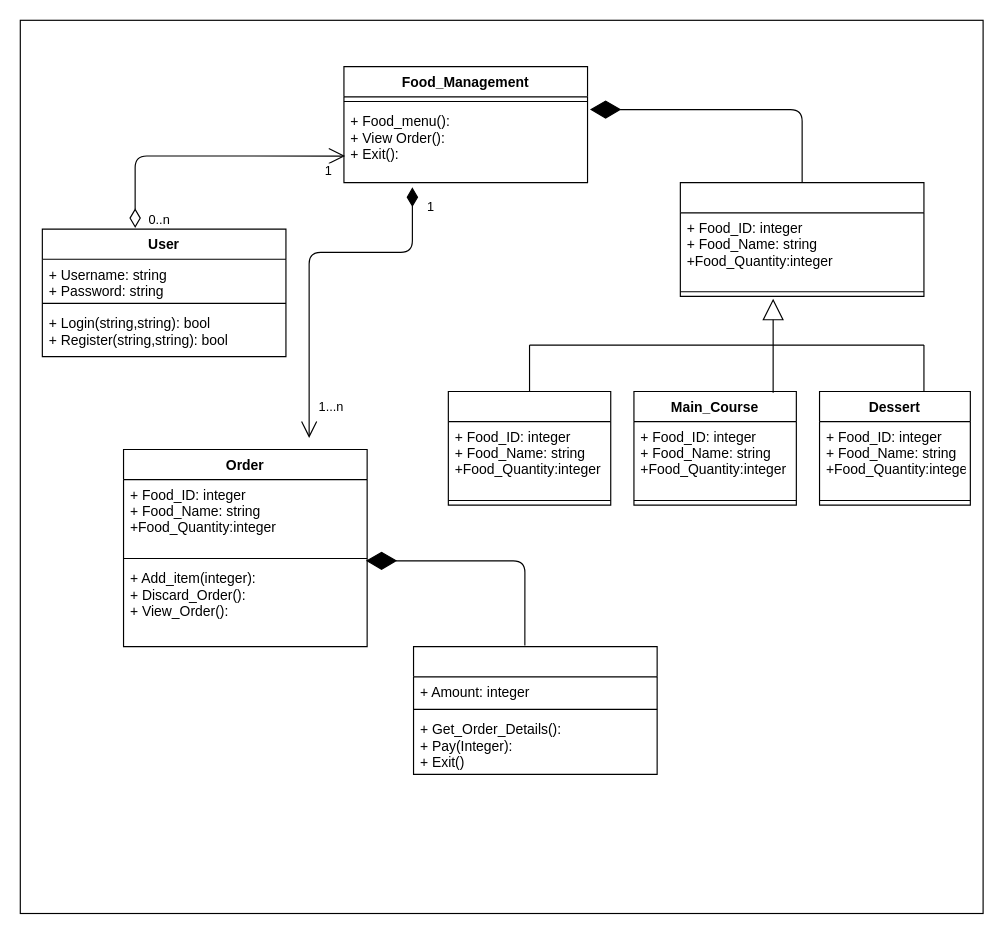
Some shapes in this 1003 by 934 pixel diagram are drawn without their labels. The box of each missing label's shape, as (x1, y1, x2, y2) in pixels:
Food_Items: (679, 182, 924, 296)
Payment: (412, 646, 657, 774)
Snacks: (447, 390, 611, 505)
